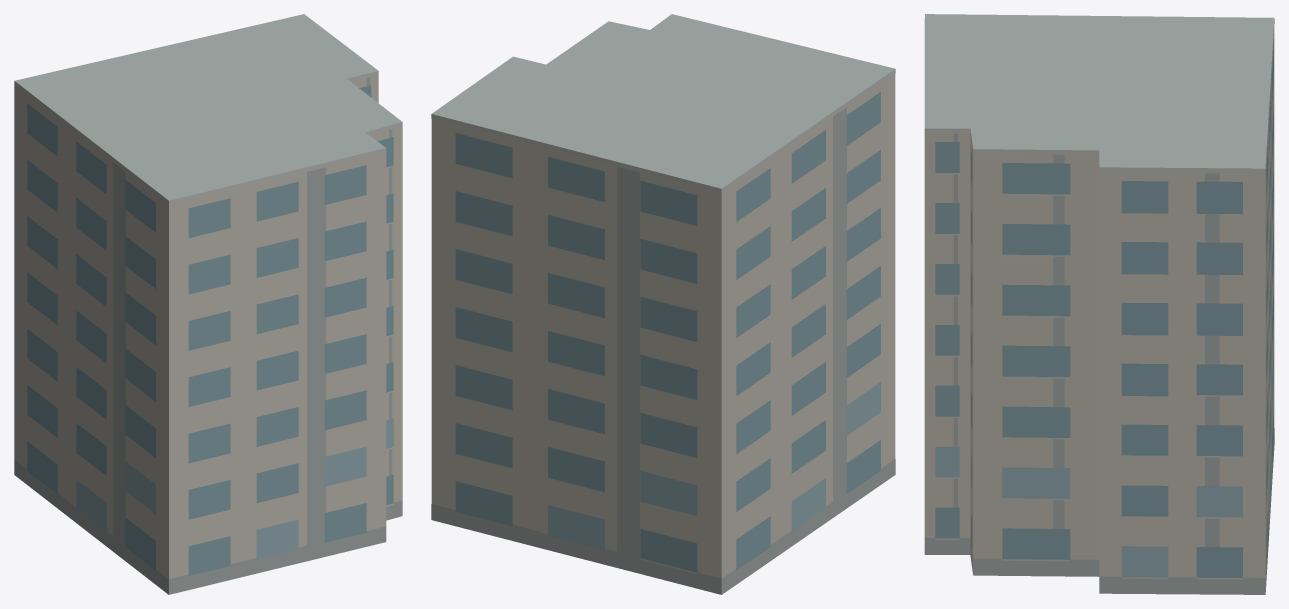
The model's file is survey-upis-32569582.glb.
The picture shows the model from 3 angles, left to right: view 1: azimuth 30°, elevation 25°; view 2: azimuth 150°, elevation 25°; view 3: azimuth 270°, elevation 25°; orthographic projection. The views are drawn at different scales.
Parts seen in each view (by area): view 1: survey-upis-32569582.tmp; view 2: survey-upis-32569582.tmp; view 3: survey-upis-32569582.tmp.
Boxes of the visible parts, x1=… form: survey-upis-32569582.tmp: x1=14, y1=14, x2=402, y2=594; survey-upis-32569582.tmp: x1=431, y1=14, x2=895, y2=594; survey-upis-32569582.tmp: x1=924, y1=14, x2=1274, y2=594.
Size of the model in its own units: 15.69 by 20.17 by 15.01.
